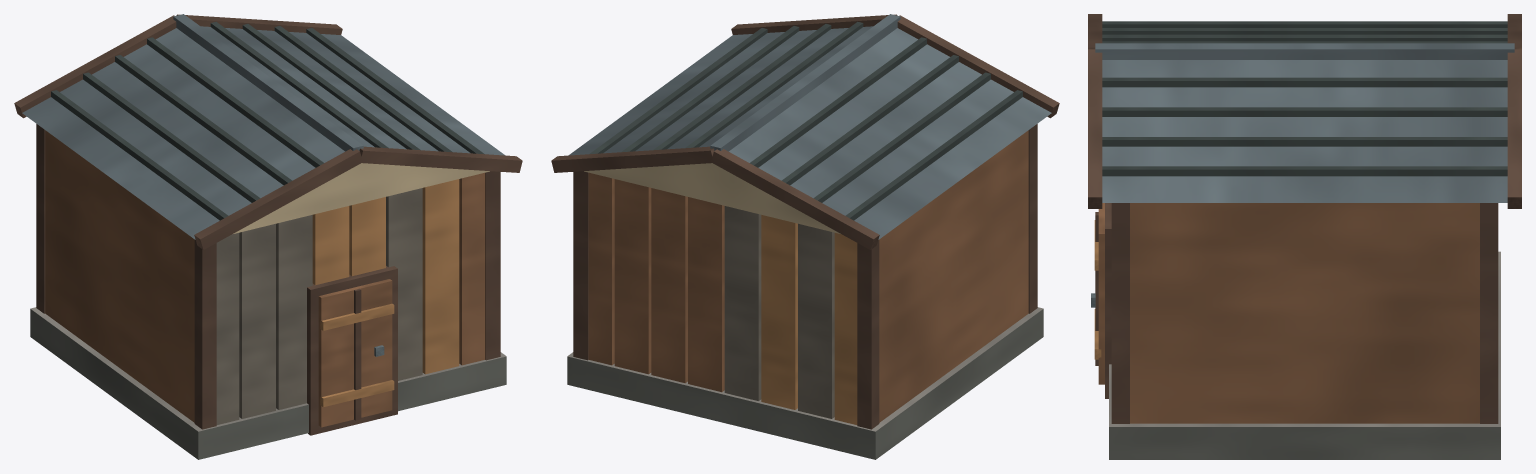
Rendered from shed_tool.fbx.
The picture shows the model from 3 angles, left to right: view 1: azimuth 30°, elevation 25°; view 2: azimuth 150°, elevation 25°; view 3: azimuth 270°, elevation 25°; orthographic projection. The views are drawn at different scales.
Visible parts, largest first — view 1: shed_tool; view 2: shed_tool; view 3: shed_tool.
Boxes of the visible parts, left/top/right/bottom form: shed_tool: left=14, top=14, right=522, bottom=459; shed_tool: left=551, top=14, right=1059, bottom=459; shed_tool: left=1088, top=14, right=1521, bottom=459.
Bounding box in the file's own units: 300 × 250 × 300.
Materials: 1 (1 with a texture image).
